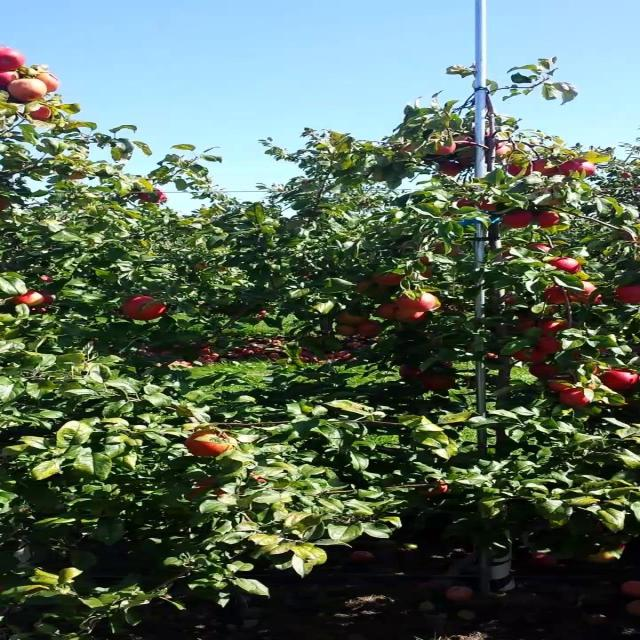apple: (184, 432, 236, 459), (120, 296, 171, 322), (184, 480, 231, 503), (6, 80, 46, 104), (248, 464, 293, 485), (397, 292, 441, 312), (604, 368, 639, 392), (589, 544, 626, 565), (461, 196, 500, 214), (561, 388, 594, 409), (561, 160, 597, 179), (568, 280, 597, 303), (426, 372, 459, 392), (540, 284, 569, 306), (35, 72, 64, 93), (532, 364, 562, 384), (248, 468, 283, 485), (511, 348, 548, 364), (419, 480, 450, 499), (568, 284, 597, 303), (504, 212, 533, 230), (540, 320, 572, 336), (532, 160, 562, 177), (397, 364, 427, 381), (6, 48, 28, 71), (141, 188, 171, 204), (532, 212, 562, 228), (554, 260, 583, 276), (540, 336, 564, 355), (525, 244, 555, 259), (618, 284, 639, 305), (376, 272, 405, 287), (28, 292, 57, 307), (547, 380, 578, 394), (511, 320, 539, 335), (497, 140, 519, 158), (20, 292, 48, 306), (13, 292, 41, 306), (454, 196, 482, 210), (518, 316, 539, 334), (504, 164, 533, 177), (362, 320, 384, 337), (397, 312, 428, 324), (340, 312, 368, 325), (440, 160, 462, 176), (433, 140, 455, 156), (376, 304, 398, 320), (28, 108, 55, 121), (355, 280, 382, 293), (433, 244, 462, 256), (476, 200, 500, 214), (0, 72, 20, 88), (518, 316, 539, 331), (454, 196, 476, 210), (35, 292, 57, 306), (589, 364, 612, 377), (13, 292, 34, 306), (248, 472, 272, 484), (540, 196, 564, 208), (540, 196, 564, 208), (454, 156, 476, 168), (456, 136, 478, 148), (397, 144, 421, 155), (618, 232, 638, 245), (419, 268, 436, 280), (333, 328, 357, 336), (547, 304, 562, 316), (63, 172, 85, 180), (504, 296, 521, 306), (504, 248, 517, 261), (6, 72, 20, 84), (589, 296, 604, 307), (419, 256, 434, 266), (0, 200, 12, 211), (42, 276, 57, 284), (35, 308, 50, 315)
